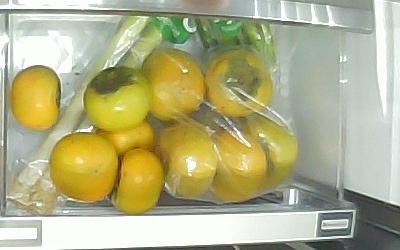persimmon: (49, 133, 119, 200), (83, 66, 152, 131), (112, 149, 164, 214), (11, 65, 61, 131)
persimmon_vinyl: (156, 124, 219, 199), (142, 48, 206, 121), (206, 50, 274, 118), (207, 129, 268, 202), (245, 119, 298, 193)
